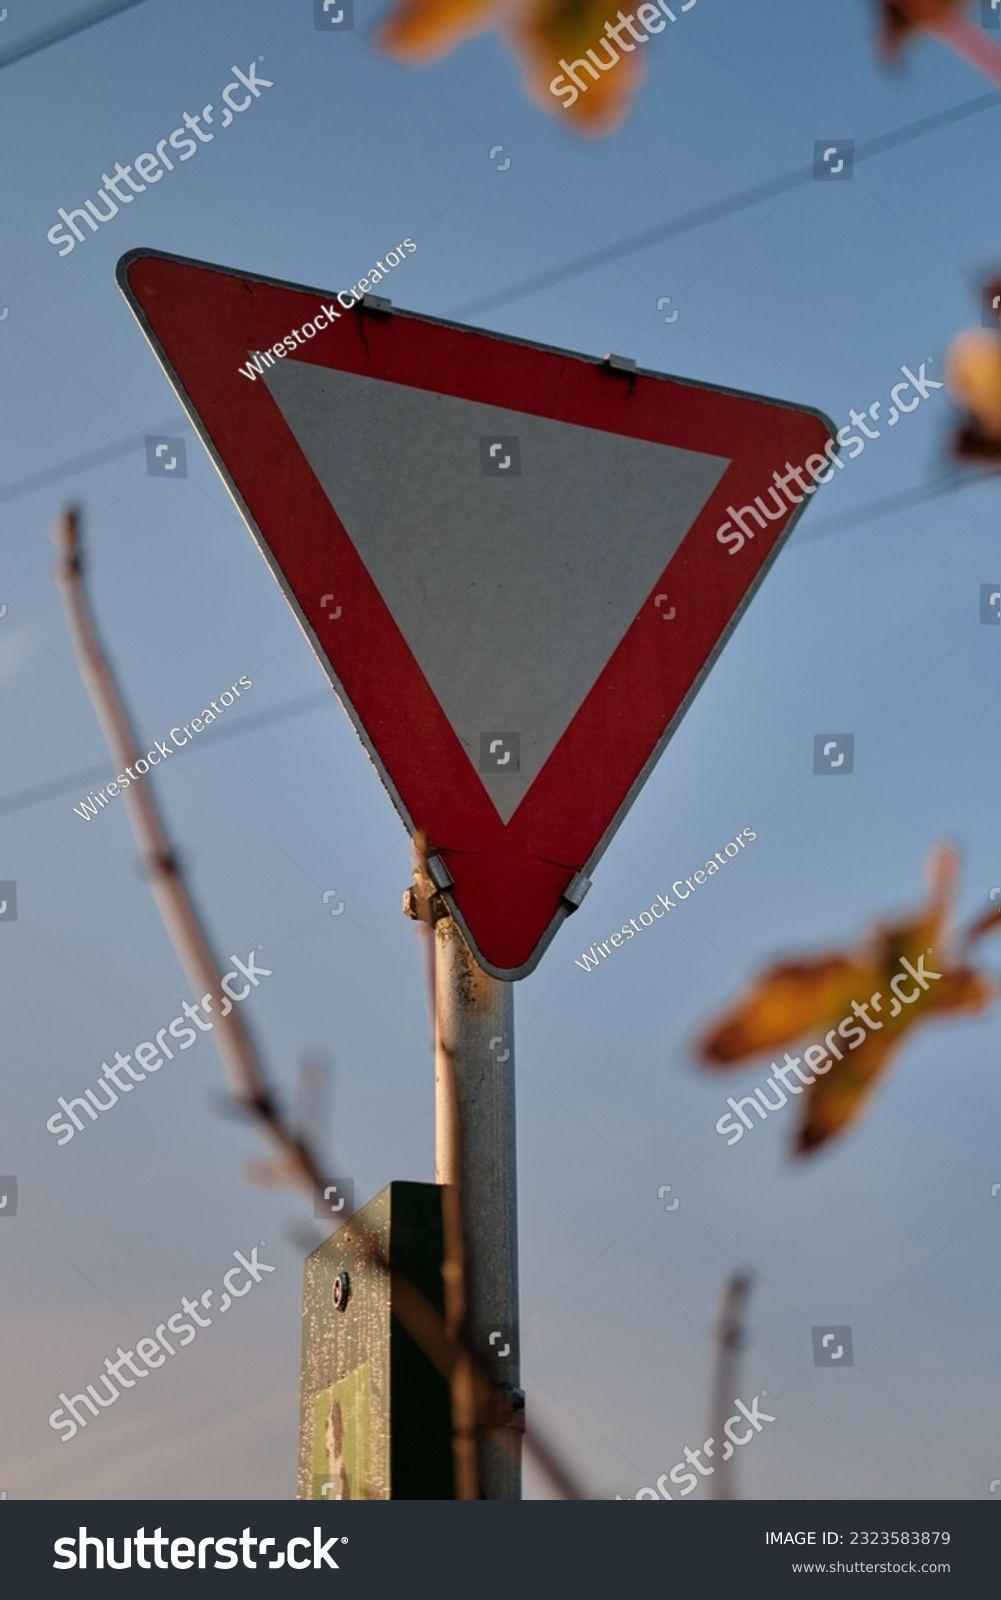Give Way: (70, 151, 936, 1079)
